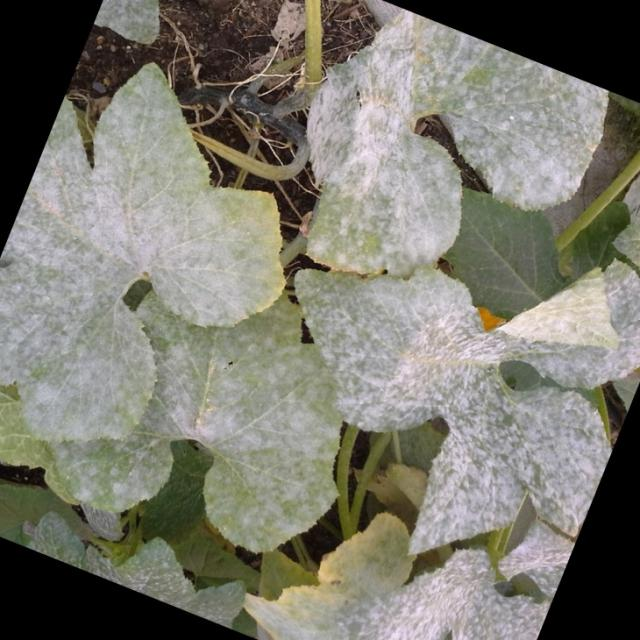Powdery Mildew: (0, 1, 639, 638), (302, 6, 610, 277)
